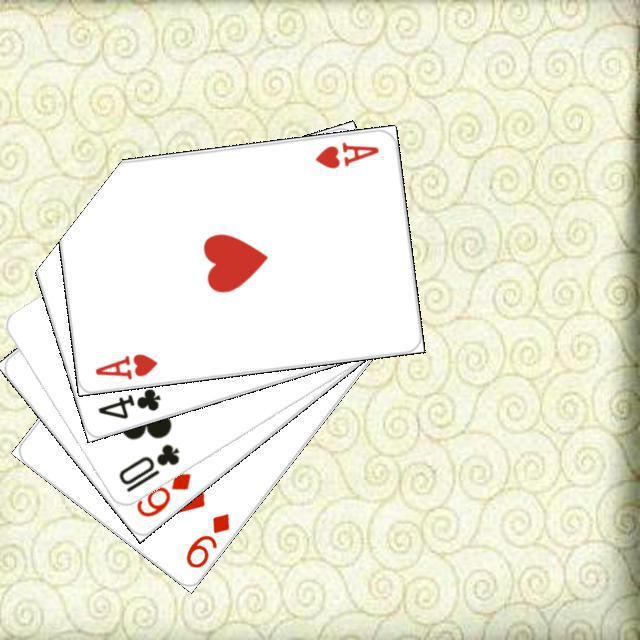10c: (113, 438, 182, 494)
4c: (93, 383, 163, 421)
6d: (131, 467, 193, 519)
9d: (180, 508, 232, 570)
Ah: (310, 137, 380, 171), (90, 349, 159, 381)
